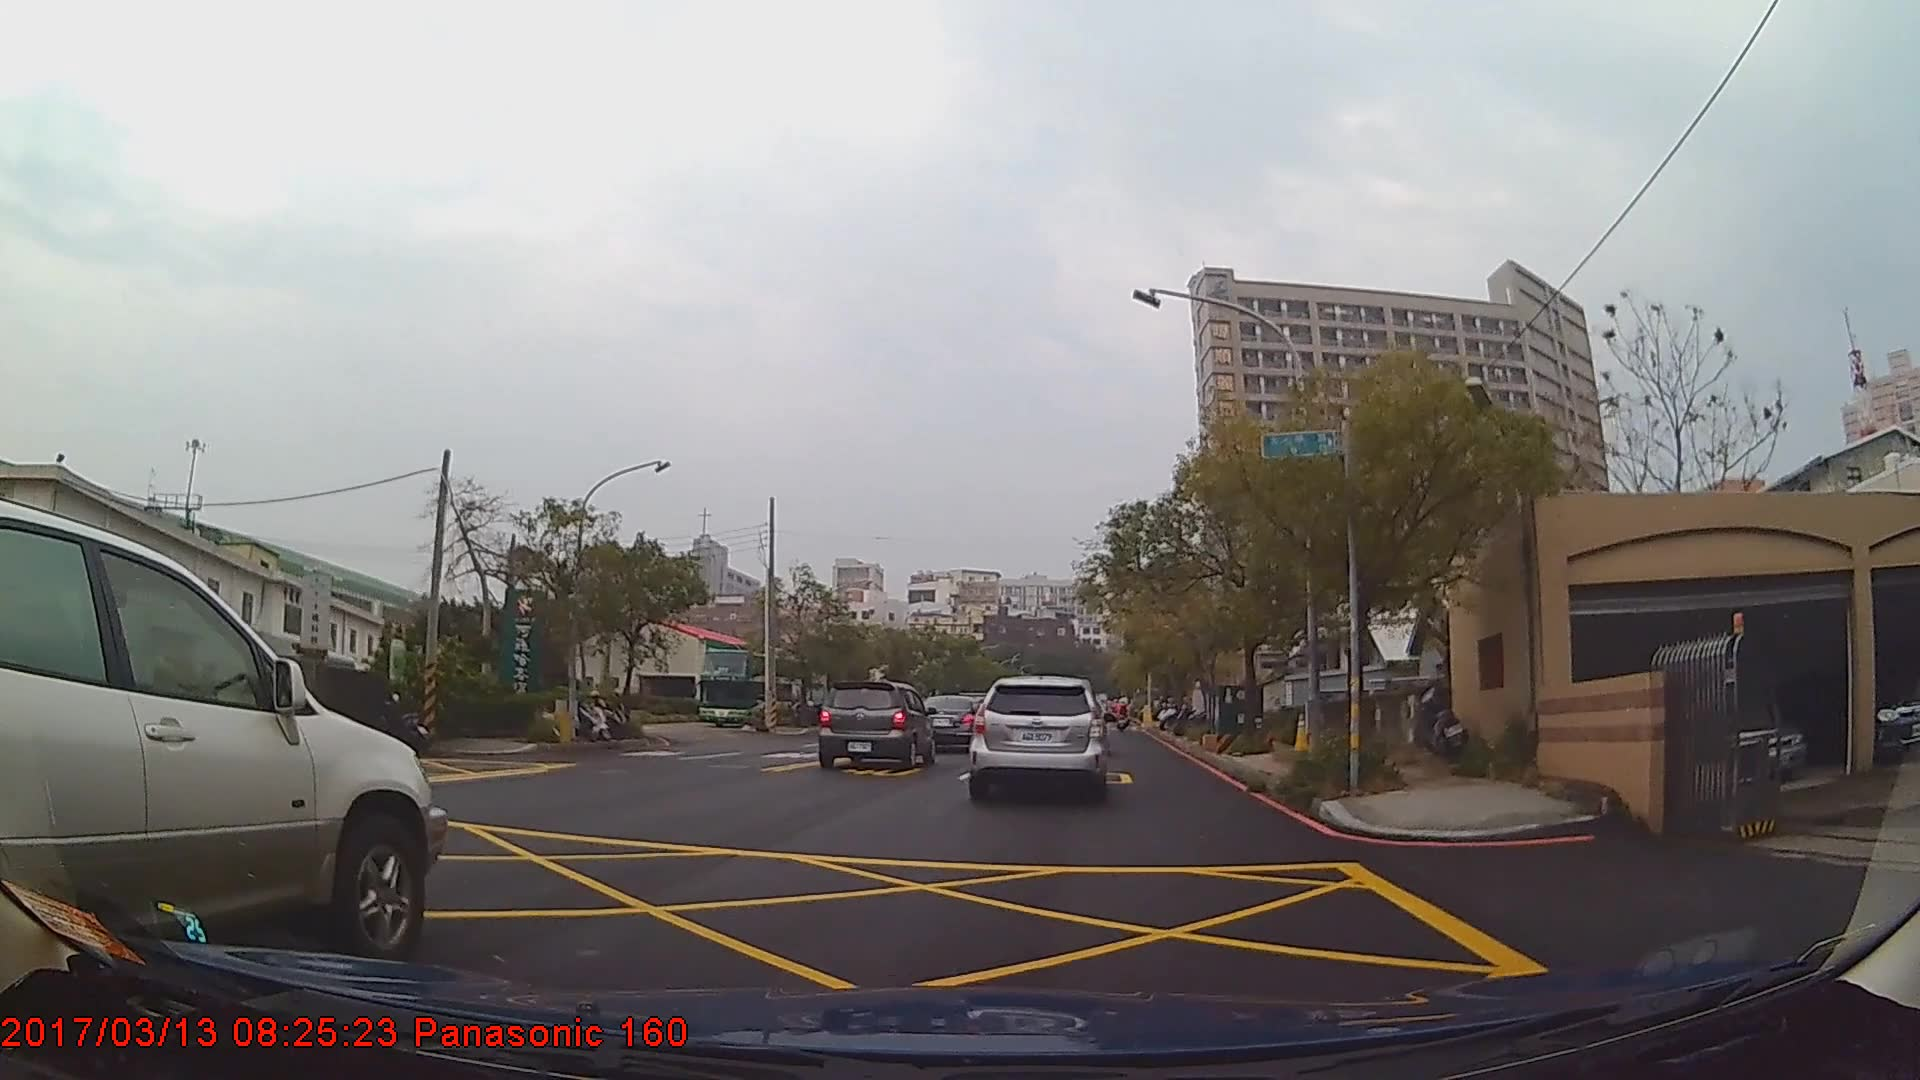vehicle: (0, 497, 444, 1000), (968, 671, 1110, 802), (1676, 694, 1809, 787), (816, 680, 938, 771), (698, 647, 814, 729), (916, 694, 989, 754)
